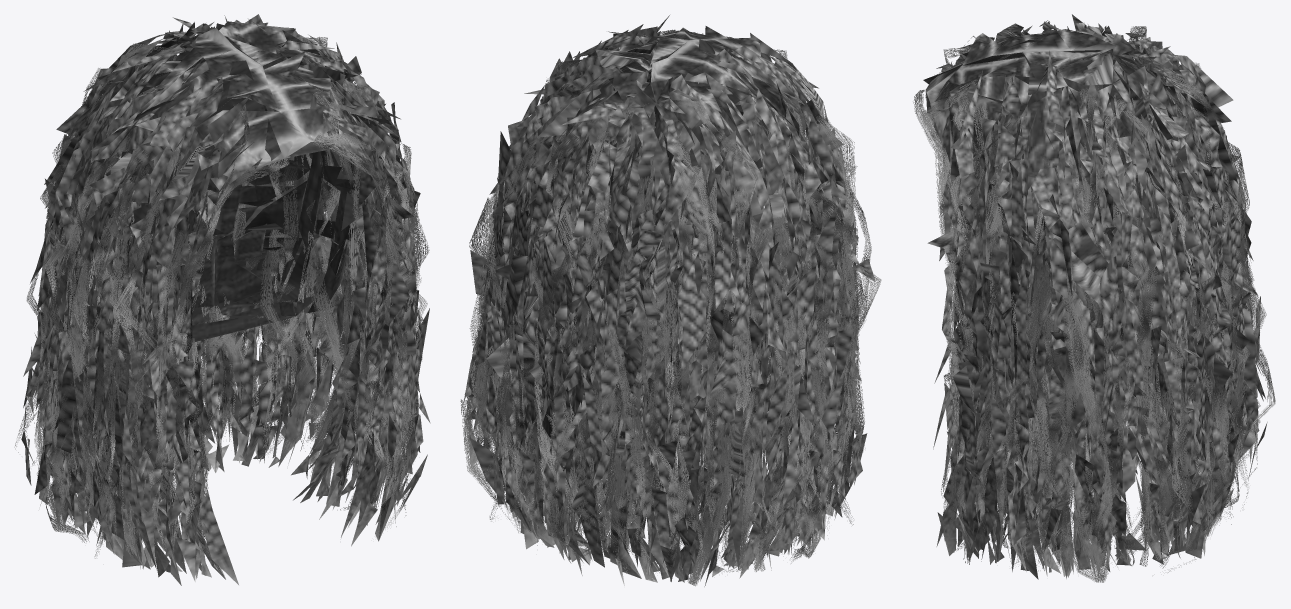
The model's file is hair_braids.glb.
3 renders of one model, left to right at view 1: azimuth 30°, elevation 25°; view 2: azimuth 150°, elevation 25°; view 3: azimuth 270°, elevation 25°, orthographic.
Parts seen in each view (by area): view 1: Mesh_0, haircards; view 2: Mesh_0, haircards; view 3: Mesh_0, haircards.
Boxes of the visible parts, x1,y1,x2,y2 form: Mesh_0: (21,14,430,585); haircards: (14,36,429,566); Mesh_0: (463,15,875,586); haircards: (460,29,881,586); Mesh_0: (923,14,1267,579); haircards: (913,26,1275,582).
Size of the model in its own units: 0.2159 by 0.2784 by 0.1824.
Materials: 2 (2 with a texture image).
